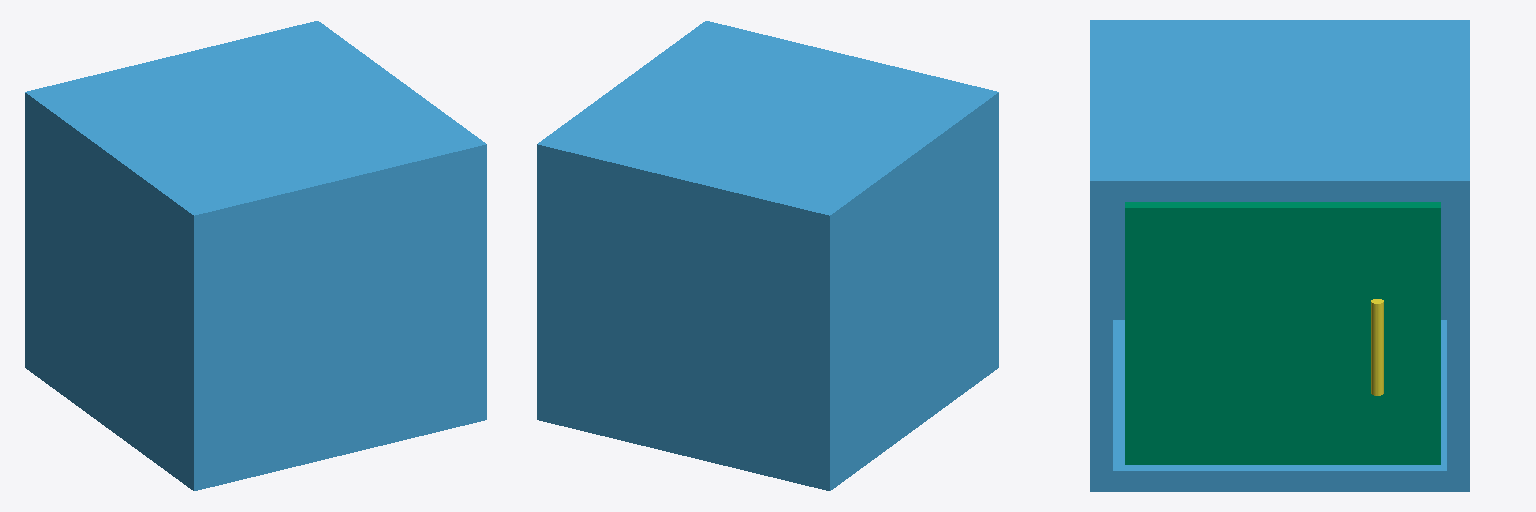
URDF robot description (my_cabinet):
<?xml version="1.0" ?>
<robot name="my_cabinet">
	<link name="world"/>
	<joint name="virtual_joint" type="fixed">
		<parent link="world"/>
		<child link="base_cabinet_link"/>
		<origin xyz="0.0 0.0 0.0" rpy="0.0 0.0 0.0"/>
	</joint>
	<link name="base_cabinet_link">
		<visual>
			<origin xyz="0.0 -0.0025 -0.1257641319643359" rpy="0.0 0.0 0.0"/>
			<geometry>
				<box size="0.3 0.29970266114257 0.018"/>
			</geometry>
		</visual>
		<collision name="base_cabinet_link_collision_0">
			<origin xyz="0.0 -0.0025 -0.1257641319643359" rpy="0.0 0.0 0.0"/>
			<geometry>
				<box size="0.3 0.29970266114257 0.018"/>
			</geometry>
		</collision>
		<visual>
			<origin xyz="0.0 0.13835133057128501 0.0" rpy="0.0 0.0 0.0"/>
			<geometry>
				<box size="0.3 0.018 0.2695282639286718"/>
			</geometry>
		</visual>
		<collision name="base_cabinet_link_collision_1">
			<origin xyz="0.0 0.13835133057128501 0.0" rpy="0.0 0.0 0.0"/>
			<geometry>
				<box size="0.3 0.018 0.2695282639286718"/>
			</geometry>
		</collision>
		<visual>
			<origin xyz="0.0 -0.14335133057128502 0.0" rpy="0.0 0.0 0.0"/>
			<geometry>
				<box size="0.3 0.018 0.2695282639286718"/>
			</geometry>
		</visual>
		<collision name="base_cabinet_link_collision_2">
			<origin xyz="0.0 -0.14335133057128502 0.0" rpy="0.0 0.0 0.0"/>
			<geometry>
				<box size="0.3 0.018 0.2695282639286718"/>
			</geometry>
		</collision>
		<visual>
			<origin xyz="0.0 -0.0025 0.1257641319643359" rpy="0.0 0.0 0.0"/>
			<geometry>
				<box size="0.3 0.29970266114257 0.018"/>
			</geometry>
		</visual>
		<collision name="base_cabinet_link_collision_3">
			<origin xyz="0.0 -0.0025 0.1257641319643359" rpy="0.0 0.0 0.0"/>
			<geometry>
				<box size="0.3 0.29970266114257 0.018"/>
			</geometry>
		</collision>
		<visual>
			<origin xyz="-0.141 -0.0025 0.0" rpy="0.0 0.0 0.0"/>
			<geometry>
				<box size="0.018 0.29970266114257 0.2695282639286718"/>
			</geometry>
		</visual>
		<collision name="base_cabinet_link_collision_4">
			<origin xyz="-0.141 -0.0025 0.0" rpy="0.0 0.0 0.0"/>
			<geometry>
				<box size="0.018 0.29970266114257 0.2695282639286718"/>
			</geometry>
		</collision>
		<inertial>
			<mass value="0.200000"/>
			<inertia ixx="0.002708" ixy="0.0" ixz="0.0" iyy="0.002711" iyz="0.0" izz="0.002997"/>
		</inertial>
	</link>
	<link name="door_link">
		<visual>
			<origin xyz="0.0 -0.124351330571285 0.0"/>
			<geometry>
				<box size="0.018 0.24870266114257 0.22352826392867178"/>
			</geometry>
		</visual>
		<collision name="door_link_collision">
			<origin xyz="0.0 -0.124351330571285 0.0"/>
			<geometry>
				<box size="0.018 0.24870266114257 0.22352826392867178"/>
			</geometry>
		</collision>
		<inertial>
			<mass value="0.200000"/>
			<inertia ixx="0.001864" ixy="0.0" ixz="0.0" iyy="0.000838" iyz="0.0" izz="0.001036"/>
		</inertial>
	</link>
	<joint name="door_joint" type="revolute">
		<origin xyz="0.141 -0.124351330571285 0.0" rpy="0.000000 -0.000000 3.141593"/>
		<axis xyz="0 0 1"/>
		<parent link="base_cabinet_link"/>
		<child link="door_link"/>
		<limit effort="50" lower="-1.658062789394613" upper="0" velocity="10"/>
		<dynamics friction="3.5" damping="3.5"/>
	</joint>
	<link name="handle_link">
		<visual>
			<origin xyz="0.0 0.0 0.0" rpy="0.0 0.0 0.0"/>
			<geometry>
				<cylinder length="0.08" radius="0.005"/>
			</geometry>
		</visual>
		<collision name="handle_link_collision_0">
			<origin xyz="0.0 0.0 0.0" rpy="0.0 0.0 0.0"/>
			<geometry>
				<cylinder length="0.08" radius="0.005"/>
			</geometry>
		</collision>
		<visual>
			<origin xyz="-0.01 0.0 0.02" rpy="0.0 1.5707963267948966 0.0"/>
			<geometry>
				<cylinder length="0.02" radius="0.003"/>
			</geometry>
		</visual>
		<collision name="handle_link_collision_1">
			<origin xyz="-0.01 0.0 0.02" rpy="0.0 1.5707963267948966 0.0"/>
			<geometry>
				<cylinder length="0.01" radius="0.003"/>
			</geometry>
		</collision>
		<visual>
			<origin xyz="-0.01 0.0 -0.02" rpy="0.0 1.5707963267948966 0.0"/>
			<geometry>
				<cylinder length="0.02" radius="0.003"/>
			</geometry>
		</visual>
		<collision name="handle_link_collision_2">
			<origin xyz="-0.01 0.0 -0.02" rpy="0.0 1.5707963267948966 0.0"/>
			<geometry>
				<cylinder length="0.02" radius="0.003"/>
			</geometry>
		</collision>
		<inertial>
			<mass value="0.050000"/>
			<inertia ixx="0.000027" ixy="0.0" ixz="0.0" iyy="0.000029" iyz="0.0" izz="0.000003"/>
		</inertial>
	</link>
	<joint name="handle_joint" type="fixed">
		<origin xyz="-0.028999999999999998 -0.19870266114257001 0.0" rpy="0.000000 -0.000000 3.141593"/>
		<parent link="door_link"/>
		<child link="handle_link"/>
	</joint>
	<gazebo reference="base_cabinet_link">
		<sensor name="main_sensor" type="contact">
			<selfCollide>true</selfCollide>
			<alwaysOn>true</alwaysOn>
			<updateRate>5.0</updateRate>
			<material>Gazebo/Red</material>
			<contact>
				<collision>base_cabinet_link_collision_0_collision</collision>
				<collision>base_cabinet_link_collision_1_collision</collision>
				<collision>base_cabinet_link_collision_2_collision</collision>
				<collision>base_cabinet_link_collision_3_collision</collision>
				<collision>base_cabinet_link_collision_4_collision</collision>
			</contact>
			<plugin name="gazebo_ros_bumper_controller" filename="libgazebo_ros_bumper.so">
				<bumperTopicName>/contact</bumperTopicName>
				<frameName>world</frameName>
			</plugin>
		</sensor>
	</gazebo>
	<gazebo reference="door_link">
		<sensor name="main_sensor" type="contact">
			<selfCollide>true</selfCollide>
			<alwaysOn>true</alwaysOn>
			<updateRate>5.0</updateRate>
			<material>Gazebo/Red</material>
			<contact>
				<collision>door_link_collision_collision</collision>
			</contact>
			<plugin name="gazebo_ros_bumper_controller" filename="libgazebo_ros_bumper.so">
				<bumperTopicName>/contact_door</bumperTopicName>
				<frameName>contact_door</frameName>
			</plugin>
		</sensor>
	</gazebo>
	<gazebo reference="door_link">
		<mu>3.0</mu>
		<mu2>3.0</mu2>
		<kp>10000000</kp>
		<kd>100</kd>
	</gazebo>
</robot>

--- What the picture shows (computed from the rendered views, not written in the file) ---
The picture shows the robot from 3 angles, left to right: view 1: azimuth 30°, elevation 25°; view 2: azimuth 150°, elevation 25°; view 3: azimuth 270°, elevation 25°; orthographic projection.
Model my_cabinet with 4 links and 3 joints (1 revolute, 2 fixed), rooted at world, posed every joint at zero.
Links seen in each view (by area): view 1: base_cabinet_link; view 2: base_cabinet_link; view 3: base_cabinet_link, door_link, handle_link.
Link boxes in pixels (x1,y1,x2,y2): base_cabinet_link: (25, 21, 486, 490); base_cabinet_link: (537, 21, 998, 490); base_cabinet_link: (1090, 20, 1469, 491); door_link: (1125, 202, 1440, 464); handle_link: (1371, 299, 1383, 395).
Bounding box of the posed robot: 0.325 × 0.2997 × 0.2695 m (x, y, z).
Geometry: primitives only (box / cylinder / sphere), no mesh files.
